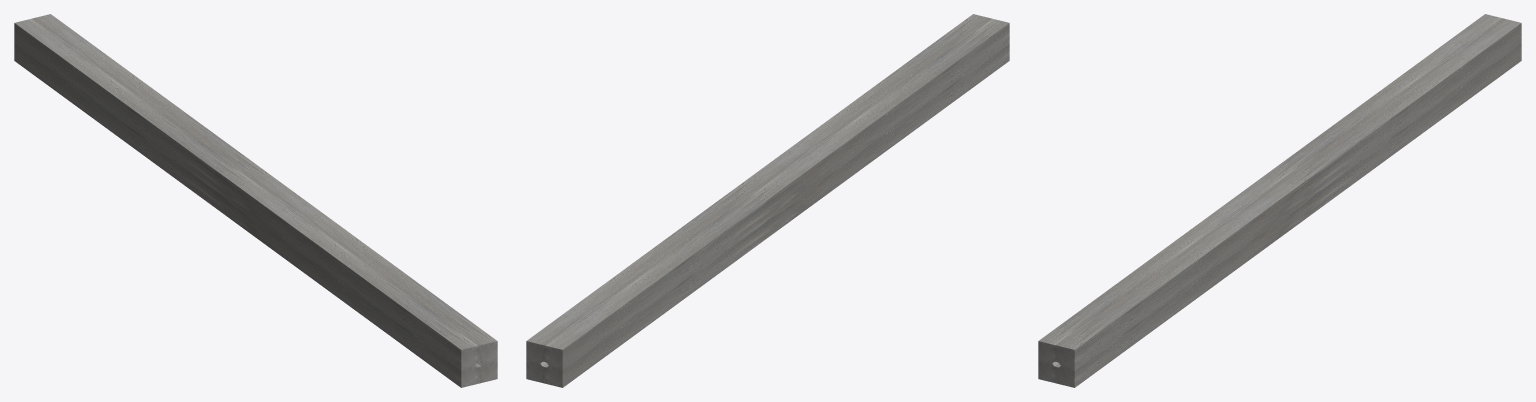
File: landing_tunnel.glb
The picture shows the model from 3 angles, left to right: view 1: azimuth 30°, elevation 25°; view 2: azimuth 150°, elevation 25°; view 3: azimuth 330°, elevation 25°; orthographic projection.
Parts seen in each view (by area): view 1: LandingTunnel-col; view 2: LandingTunnel-col; view 3: LandingTunnel-col.
Part boxes in pixels (x1,y1,x2,y2): LandingTunnel-col: [14, 14, 497, 387]; LandingTunnel-col: [526, 14, 1009, 387]; LandingTunnel-col: [1038, 14, 1521, 387].
Size of the model in its own units: 30 by 30 by 638.
Materials: 1 (1 with a texture image).
